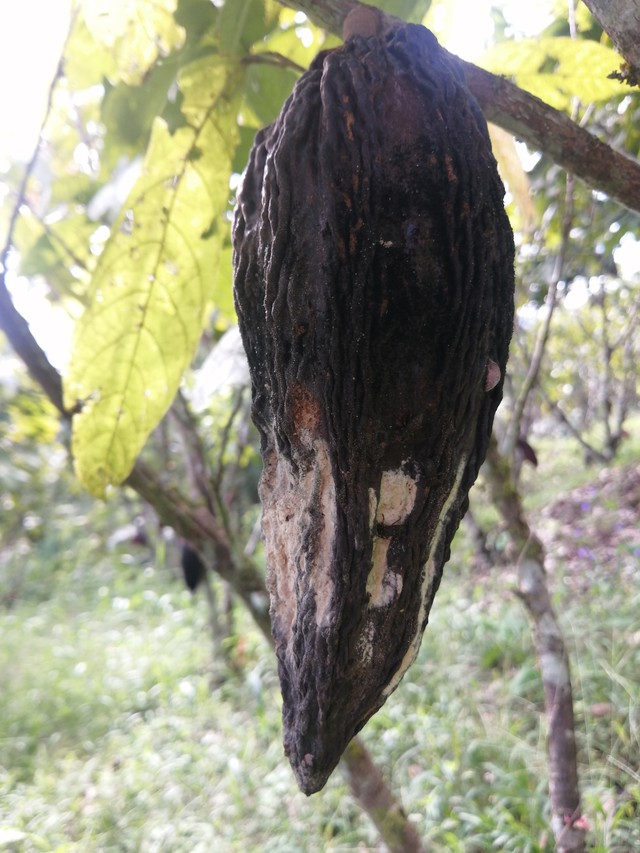moniliophthora roreri: (203, 12, 531, 809)
